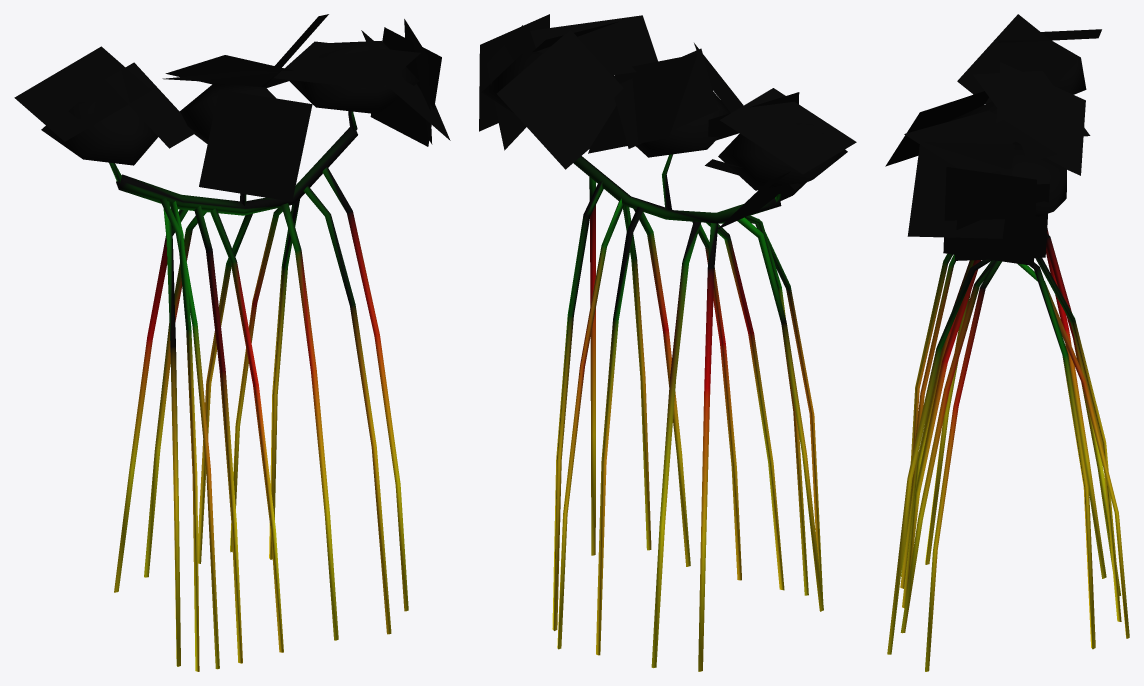
The model's file is mangrove_roots_a_lo.glb.
3 renders of one model, left to right at view 1: azimuth 30°, elevation 25°; view 2: azimuth 150°, elevation 25°; view 3: azimuth 270°, elevation 25°, orthographic. The views are drawn at different scales.
Visible parts, largest first — view 1: mangrove_roots_a_lo; view 2: mangrove_roots_a_lo; view 3: mangrove_roots_a_lo.
Part boxes in pixels (x1,y1,x2,y2): mangrove_roots_a_lo: (14,14,450,671); mangrove_roots_a_lo: (479,14,856,671); mangrove_roots_a_lo: (885,14,1129,671).
Size of the model in its own units: 4.51 by 6.73 by 2.73.
